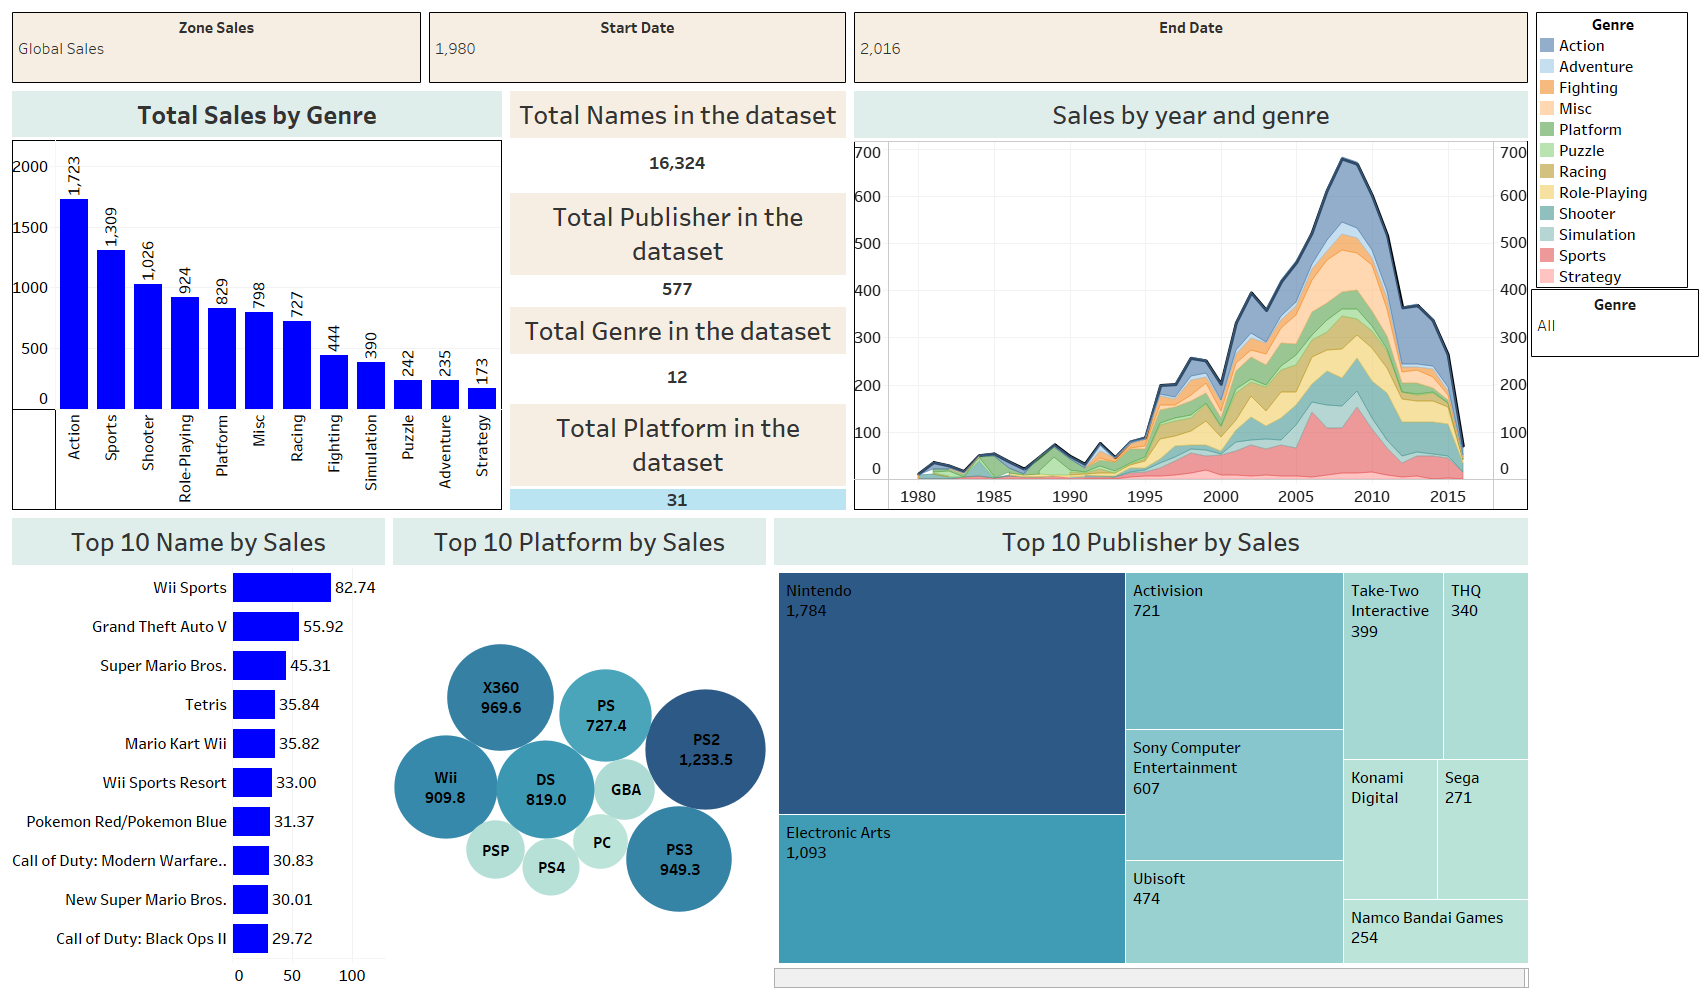

The dashboard page shown, as its layout file describes it:
{"tool":"tableau","page":{"name":"Dashboard 1","canvas":[1700,1000],"ordinal":0},"visuals":[{"type":"parameter","param":"[Parameters].[Parameter 1]","box":[8,8,417,79]},{"type":"parameter","param":"[Parameters].[Parameter 2]","box":[425,8,425,79]},{"type":"parameter","param":"[Parameters].[Parameter 3]","box":[850,8,682,79]},{"type":"legend","title":"Sales by year and genre","param":"[federated.05906qw1k95ae71bir0uu00aebg1].[none:Genre:nk]","box":[1532,8,160,284]},{"type":"worksheet","title":"Total Sales by Genre","mark":"Automatic","rows":["Calculation_1573726634934034432"],"cols":["Genre"],"box":[8,87,498,427]},{"type":"worksheet","title":"Total Names in the dataset","mark":"Automatic","box":[506,87,344,102]},{"type":"worksheet","title":"Sales by year and genre","mark":"Automatic","rows":["Calculation_1573726634934034432","Calculation_1573726634934034432"],"cols":["Year"],"box":[850,87,682,427]},{"type":"worksheet","title":"Total Publisher in the dataset","mark":"Automatic","box":[506,189,344,114]},{"type":"filter","title":"Sales by year and genre","param":"[federated.05906qw1k95ae71bir0uu00aebg1].[none:Genre:nk]","box":[1531,289,168,68]},{"type":"worksheet","title":"Total Genre in the dataset ","mark":"Automatic","box":[506,303,344,97]},{"type":"worksheet","title":"Total Platform in the dataset ","mark":"Automatic","box":[506,400,344,114]},{"type":"worksheet","title":"Top 10 Name by Sales","mark":"Automatic","rows":["Name"],"cols":["Calculation_1573726634934034432"],"box":[8,514,381,478]},{"type":"worksheet","title":"Top 10 Platform by Sales","mark":"Circle","box":[389,514,381,478]},{"type":"worksheet","title":"Top 10 Publisher by Sales","mark":"Automatic","box":[770,514,762,478]}]}

Visuals, with their boxes in screenshot pixels (x1, y1, x2, y2), scaled from the page's 1700x1000 canvas onto the 1700x1000 screenshot:
parameter: locate(8, 8, 425, 87)
parameter: locate(425, 8, 850, 87)
parameter: locate(850, 8, 1532, 87)
"Sales by year and genre" legend: locate(1532, 8, 1692, 292)
"Total Sales by Genre" worksheet: locate(8, 87, 506, 514)
"Total Names in the dataset" worksheet: locate(506, 87, 850, 189)
"Sales by year and genre" worksheet: locate(850, 87, 1532, 514)
"Total Publisher in the dataset" worksheet: locate(506, 189, 850, 303)
"Sales by year and genre" filter: locate(1531, 289, 1699, 357)
"Total Genre in the dataset " worksheet: locate(506, 303, 850, 400)
"Total Platform in the dataset " worksheet: locate(506, 400, 850, 514)
"Top 10 Name by Sales" worksheet: locate(8, 514, 389, 992)
"Top 10 Platform by Sales" worksheet (Circle marks): locate(389, 514, 770, 992)
"Top 10 Publisher by Sales" worksheet: locate(770, 514, 1532, 992)
